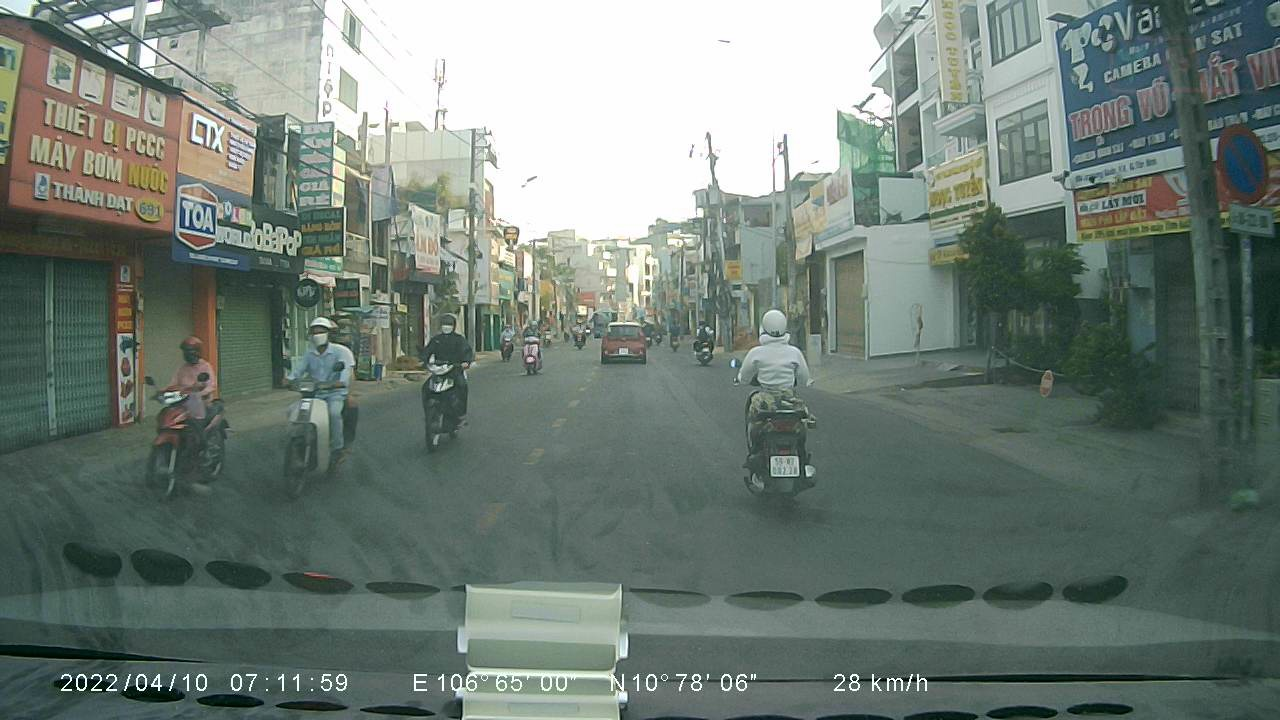Cam do xe: (1208, 108, 1273, 206)
